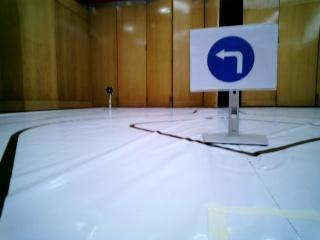left: (190, 27, 269, 85)
